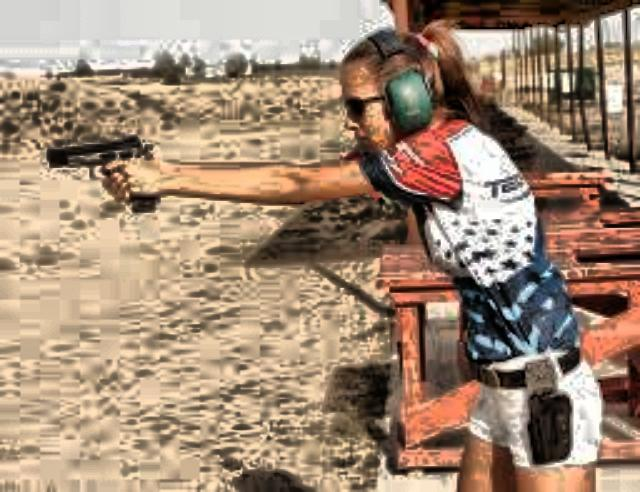pistol: (40, 123, 162, 208)
